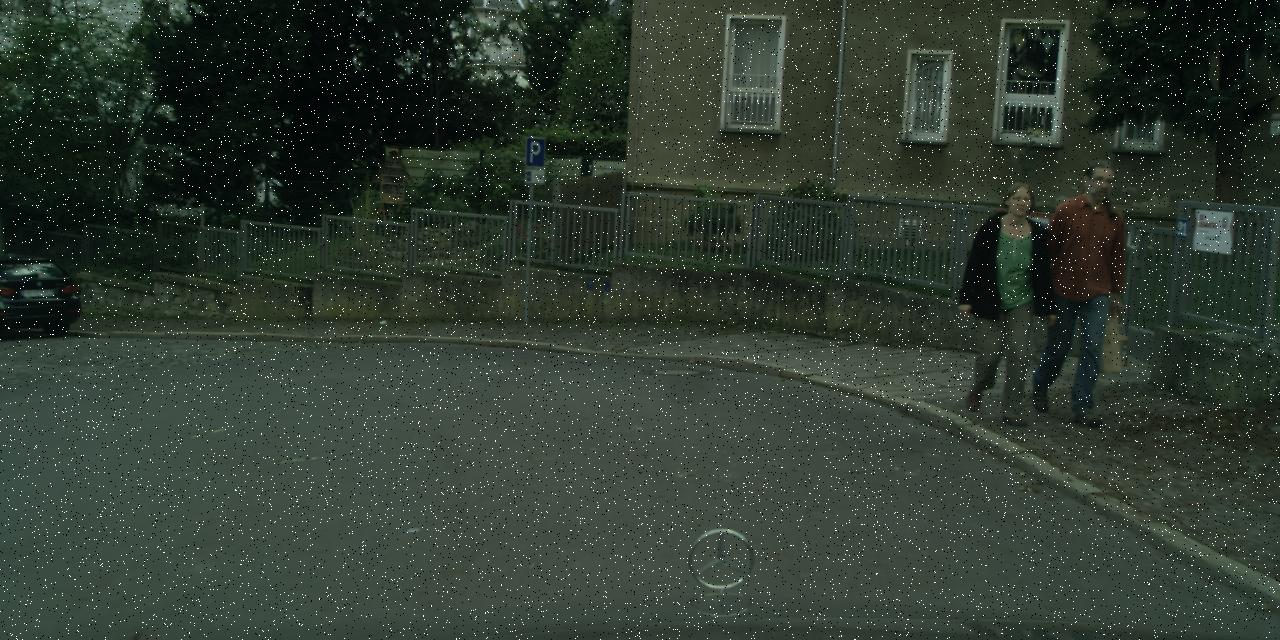ped: (1029, 160, 1134, 418), (958, 180, 1054, 414)
